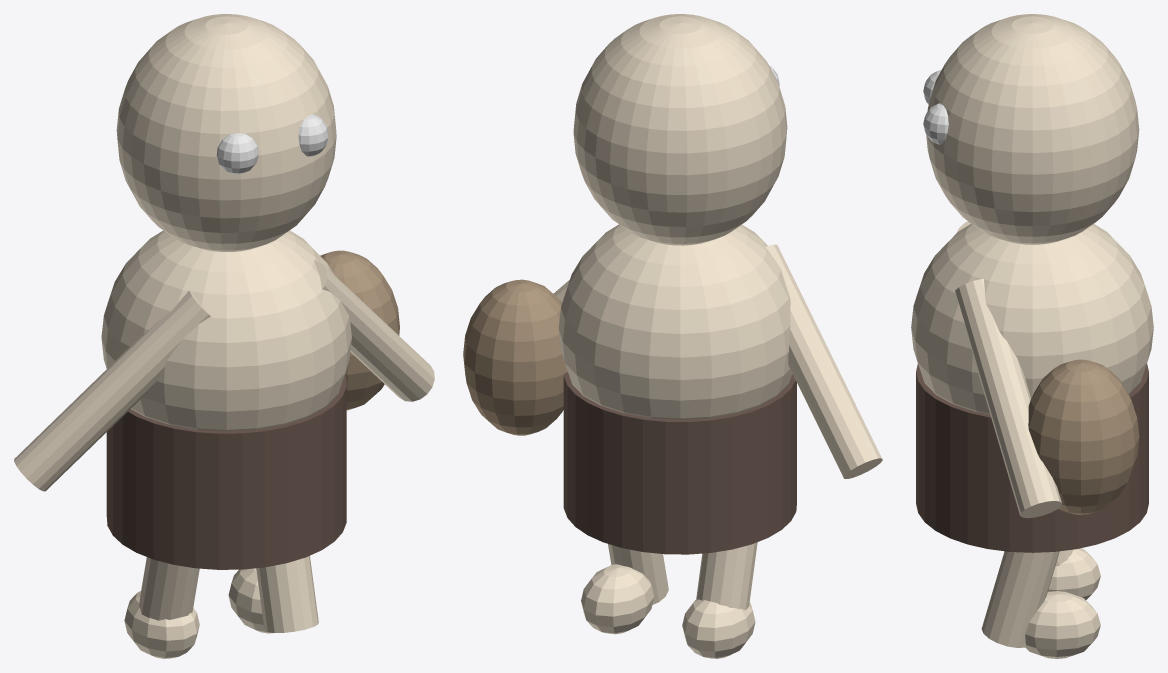
Rendered from tuyul.fbx.
The picture shows the model from 3 angles, left to right: view 1: azimuth 30°, elevation 25°; view 2: azimuth 150°, elevation 25°; view 3: azimuth 270°, elevation 25°; orthographic projection. The views are drawn at different scales.
Parts seen in each view (by area): view 1: Sphere, Sphere.003, Cylinder, Cylinder.001, Cylinder.002, Sphere.006, Cylinder.004, Cylinder.003, Sphere.004, Sphere.005, Sphere.001, Sphere.002; view 2: Sphere, Sphere.003, Cylinder, Sphere.006, Cylinder.001, Sphere.005, Sphere.004, Cylinder.003, Cylinder.004; view 3: Sphere, Sphere.003, Cylinder, Sphere.006, Cylinder.002, Cylinder.004, Sphere.005, Sphere.004, Sphere.002.
Part boxes in pixels (x1,y1,x2,y2): Sphere: [116, 14, 336, 251]; Sphere.003: [101, 230, 351, 431]; Cylinder: [106, 375, 346, 569]; Cylinder.001: [14, 290, 210, 491]; Cylinder.002: [314, 260, 434, 401]; Sphere.006: [320, 250, 399, 410]; Cylinder.004: [256, 556, 318, 632]; Cylinder.003: [139, 557, 199, 620]; Sphere.004: [124, 591, 199, 658]; Sphere.005: [228, 568, 272, 633]; Sphere.001: [216, 133, 258, 173]; Sphere.002: [298, 114, 328, 156]; Sphere: [573, 14, 787, 245]; Sphere.003: [558, 224, 792, 419]; Cylinder: [563, 372, 796, 554]; Sphere.006: [463, 279, 567, 435]; Cylinder.001: [765, 244, 882, 478]; Sphere.005: [581, 564, 654, 634]; Sphere.004: [682, 599, 755, 658]; Cylinder.003: [696, 542, 757, 610]; Cylinder.004: [608, 544, 668, 604]; Sphere: [926, 14, 1139, 244]; Sphere.003: [911, 224, 1153, 414]; Cylinder: [916, 364, 1148, 552]; Sphere.006: [1028, 359, 1139, 514]; Cylinder.002: [955, 278, 1061, 518]; Cylinder.004: [981, 551, 1059, 647]; Sphere.005: [1025, 591, 1100, 658]; Sphere.004: [1048, 548, 1100, 599]; Sphere.002: [923, 103, 948, 144].
Bounding box in the file's own units: 95.41 × 138 × 50.
